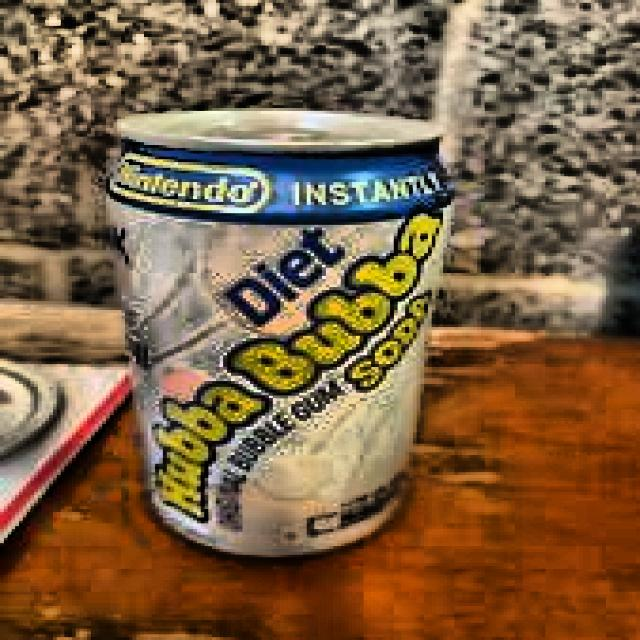Cans: (66, 104, 490, 589)
